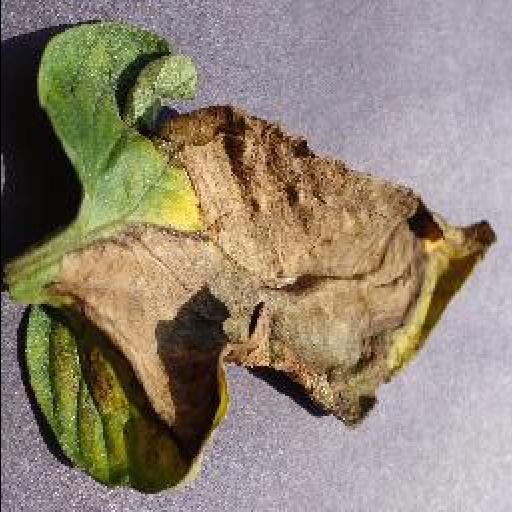disease_tomato: (21, 22, 499, 498)
